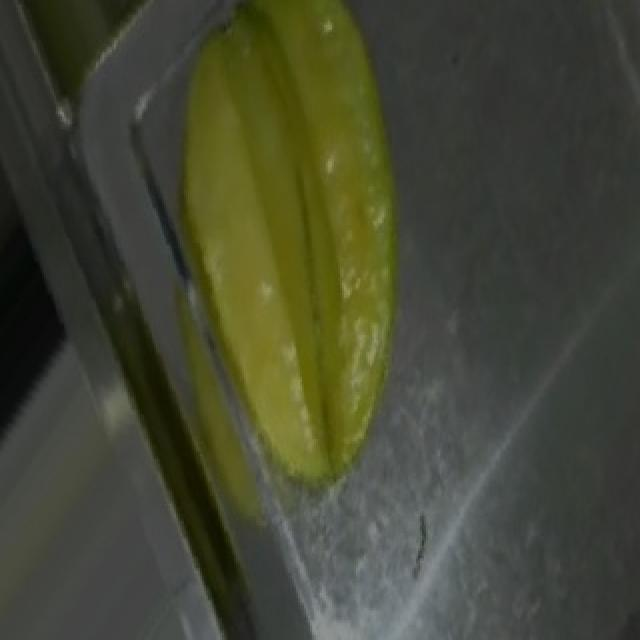fruit: (106, 0, 480, 337)
